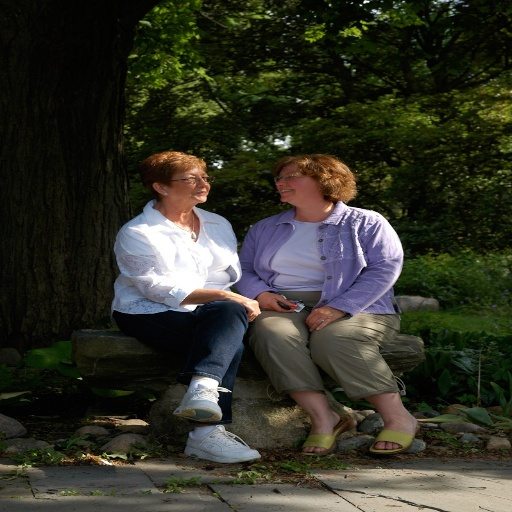hand: (221, 291, 260, 322), (302, 304, 343, 332), (256, 291, 296, 312)
